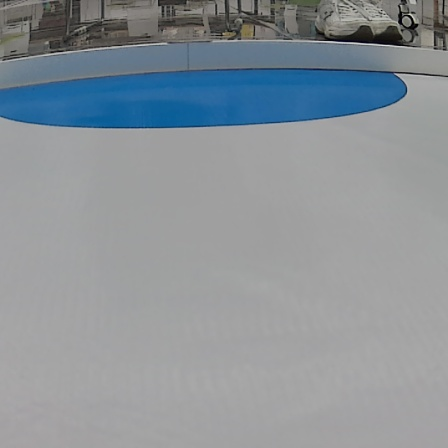blue_base: (2, 69, 407, 130)
